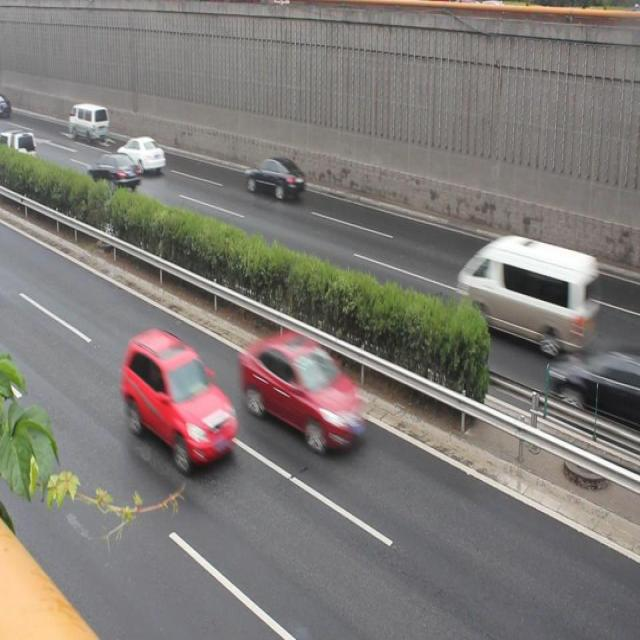car: (124, 331, 235, 467), (241, 330, 364, 447), (536, 252, 596, 324), (245, 155, 302, 203), (89, 153, 139, 193), (118, 134, 166, 172)
truck: (456, 234, 590, 349), (68, 104, 110, 142)
